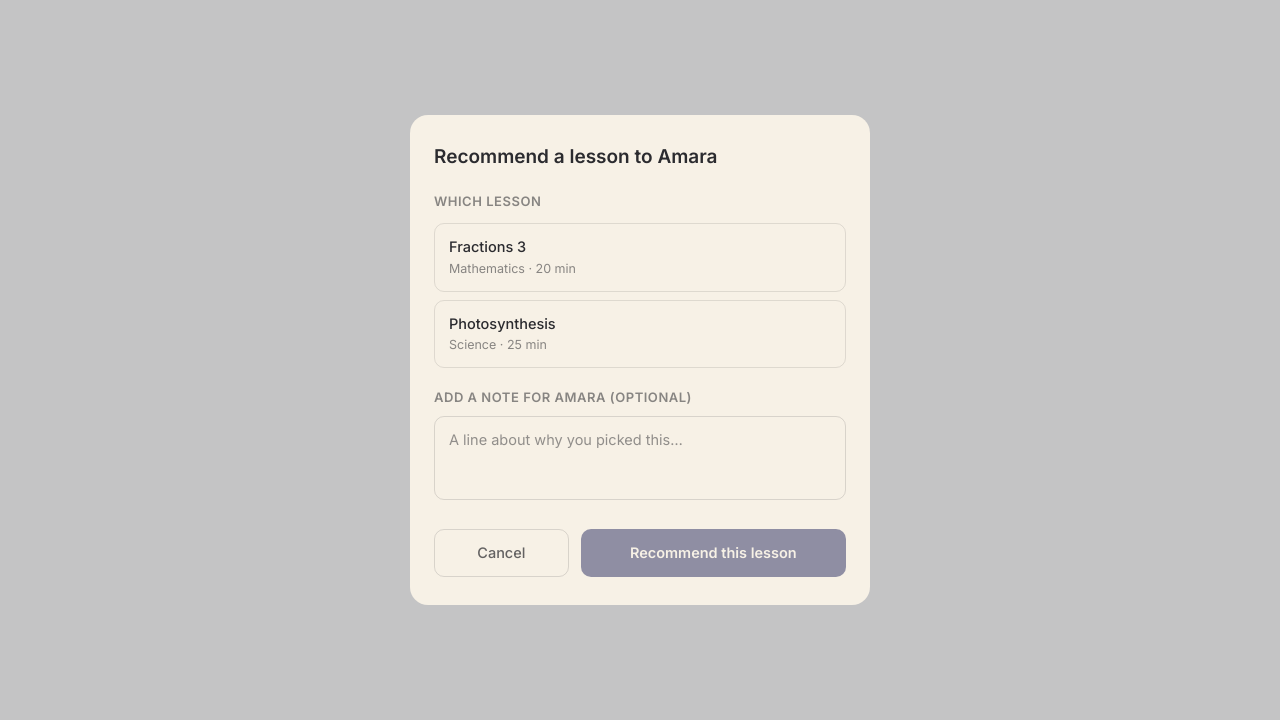
Test: sending › names the lesson it actually sent, in the confirmation
Click the button "Photosynthesis Science · 25 min" at (502, 323), box left=434, top=300, right=846, bottom=368
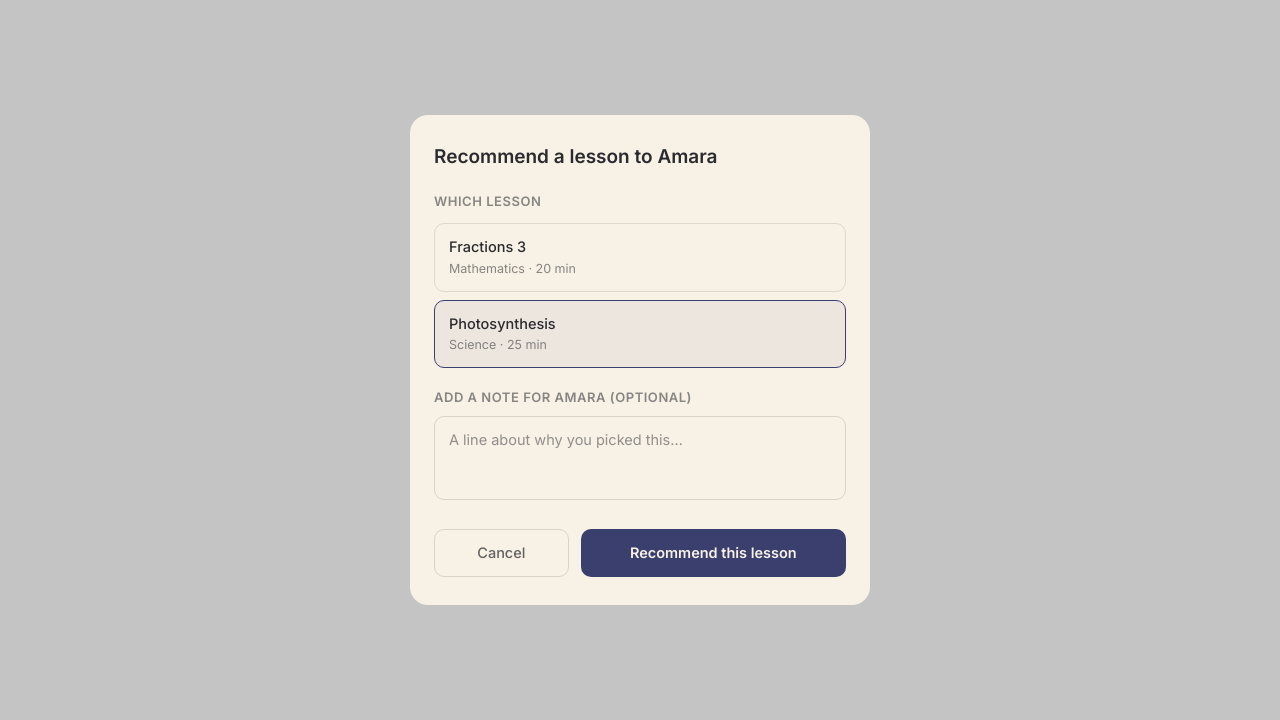
Click the button "Recommend this lesson" at (713, 553), box left=581, top=529, right=846, bottom=577
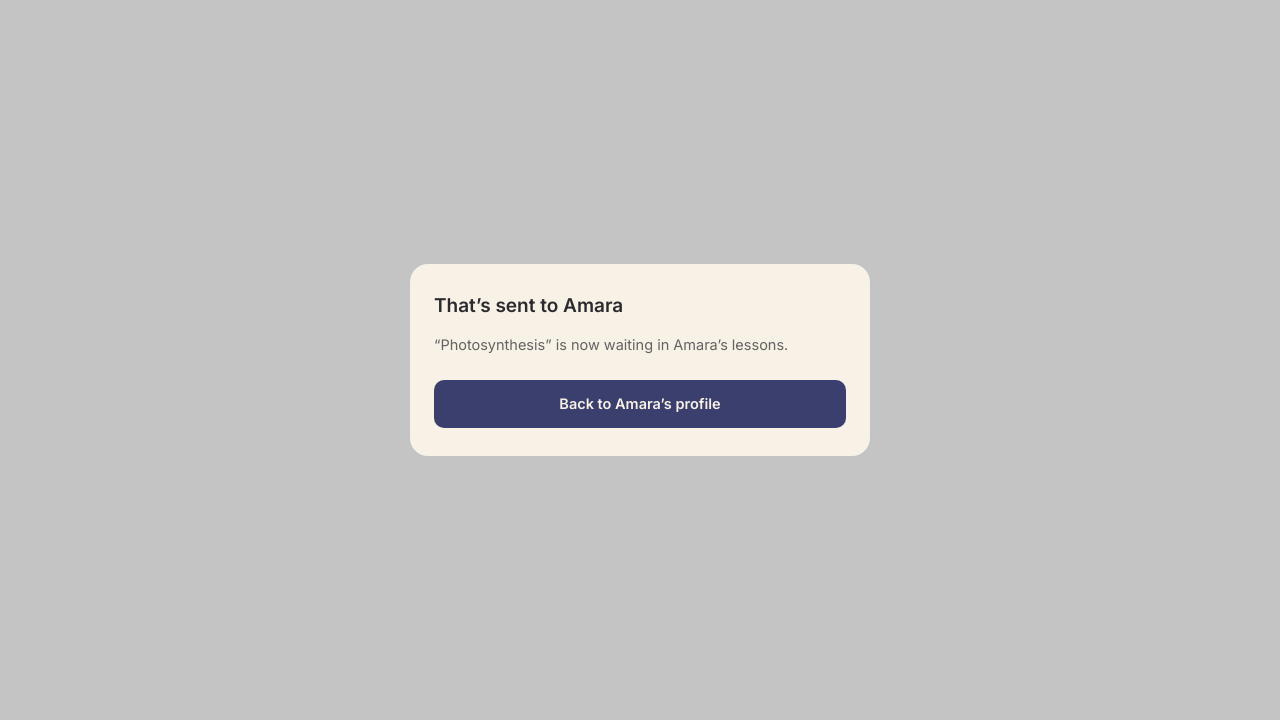
Expected: the text "Photosynthesis" is shown, left=434, top=336, right=788, bottom=353
Now the text "Fractions 3" is gone
